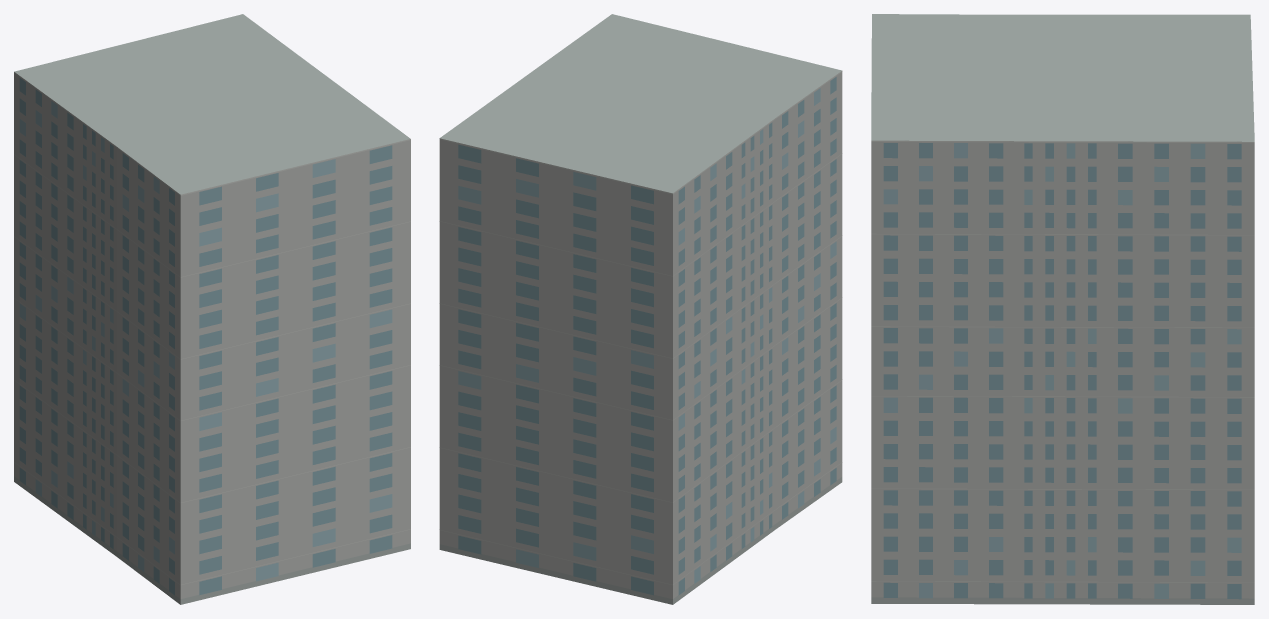
File: residential-a8f7cc9c-8c19-4692-a9b6-bb6e90997e67.glb
3 renders of one model, left to right at view 1: azimuth 30°, elevation 25°; view 2: azimuth 150°, elevation 25°; view 3: azimuth 270°, elevation 25°, orthographic. The views are drawn at different scales.
Parts seen in each view (by area): view 1: residential-a8f7cc9c-8c19-4692-a9b6-bb6e90997e67.tmp; view 2: residential-a8f7cc9c-8c19-4692-a9b6-bb6e90997e67.tmp; view 3: residential-a8f7cc9c-8c19-4692-a9b6-bb6e90997e67.tmp.
Part boxes in pixels (<box>): residential-a8f7cc9c-8c19-4692-a9b6-bb6e90997e67.tmp: <box>14,14,410,604</box>; residential-a8f7cc9c-8c19-4692-a9b6-bb6e90997e67.tmp: <box>439,14,842,604</box>; residential-a8f7cc9c-8c19-4692-a9b6-bb6e90997e67.tmp: <box>871,14,1254,604</box>.
Size of the model in its own units: 51.54 by 87 by 65.34.
